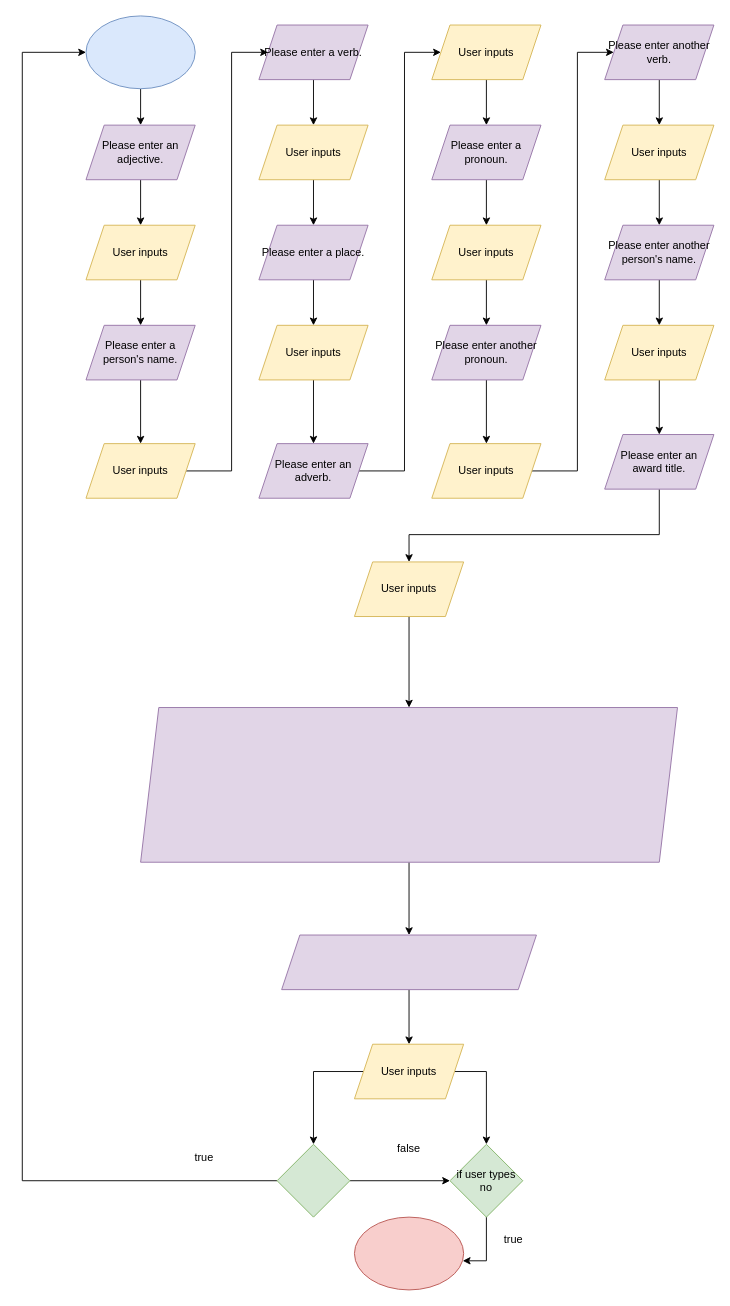
Some shapes in this 730 by 1306 pixel diagram are drawn without their labels. The centre of each missing label's shape, as x and y in pixels:
Display "Would you like to try again?": [408,962]
End: [409,1253]
if user types yes: [313,1180]
Insert story about a hard worker working with a new guy here.: [408,784]
Start: [140,52]
